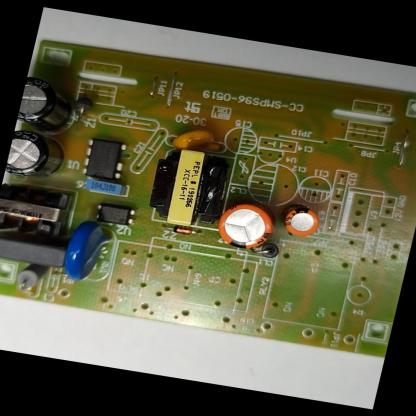Cap1: (214, 200, 279, 252)
Cap2: (280, 205, 323, 239)
Cap3: (4, 128, 73, 183)
Cap4: (15, 75, 84, 137)
MOSFET: (80, 135, 128, 180)
Mov: (60, 217, 116, 285)
Resistor: (13, 260, 50, 292)
Transformer: (144, 144, 235, 229), (0, 180, 77, 243)
